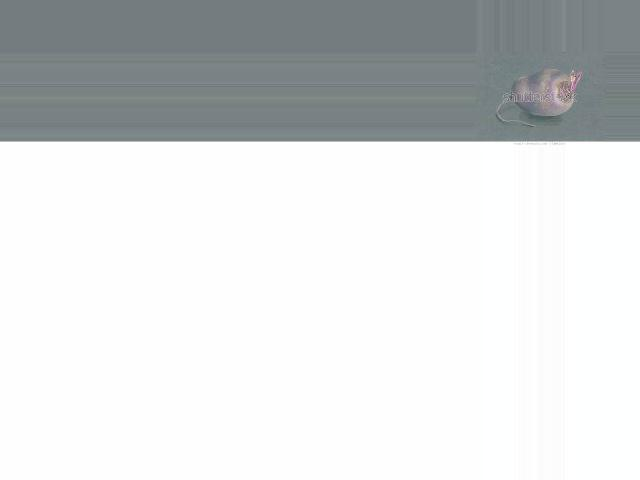beet: (496, 68, 585, 126)
